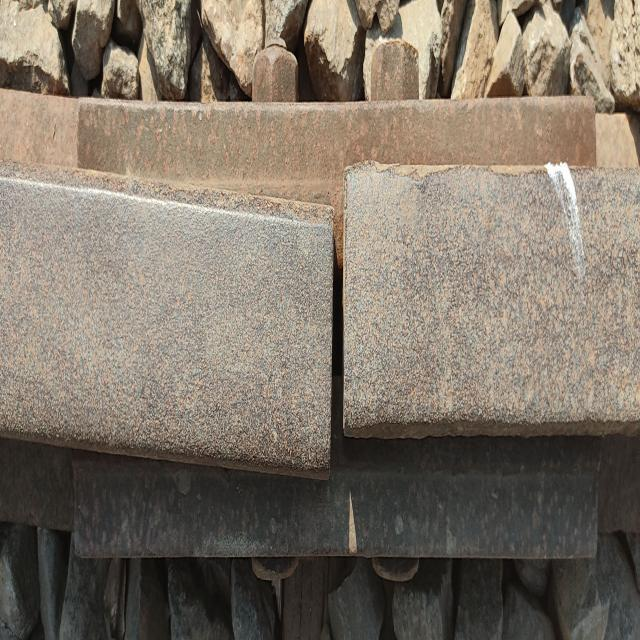railway_join_bar_defects_low: (307, 30, 423, 508)
